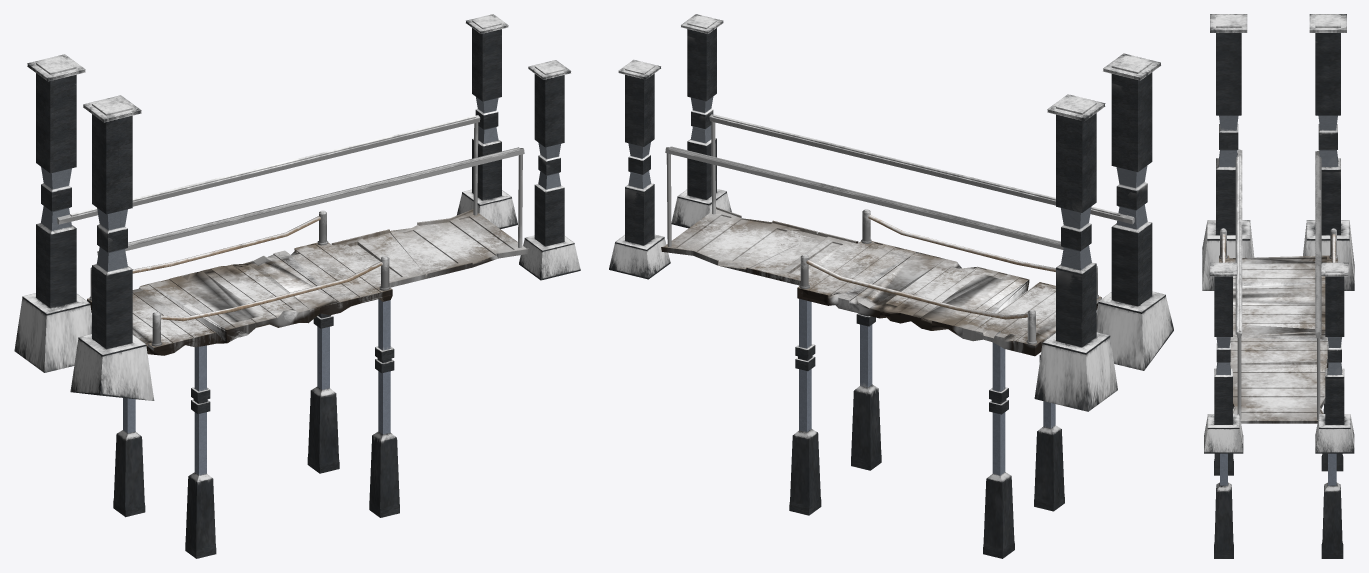
File: JotunBridgev2.FBX
The picture shows the model from 3 angles, left to right: view 1: azimuth 30°, elevation 25°; view 2: azimuth 150°, elevation 25°; view 3: azimuth 270°, elevation 25°; orthographic projection. The views are drawn at different scales.
Visible parts, largest first — view 1: JotunBridge, JotunBridgeDraw; view 2: JotunBridge, JotunBridgeDraw; view 3: JotunBridge, JotunBridgeDraw.
Part boxes in pixels (x1,y1,x2,y2): JotunBridge: (14,14,580,558); JotunBridgeDraw: (331,209,529,287); JotunBridge: (609,14,1173,558); JotunBridgeDraw: (661,207,858,285); JotunBridge: (1202,14,1354,558); JotunBridgeDraw: (1230,357,1326,423).
Bounding box in the file's own units: 123 × 115 × 38.09.
